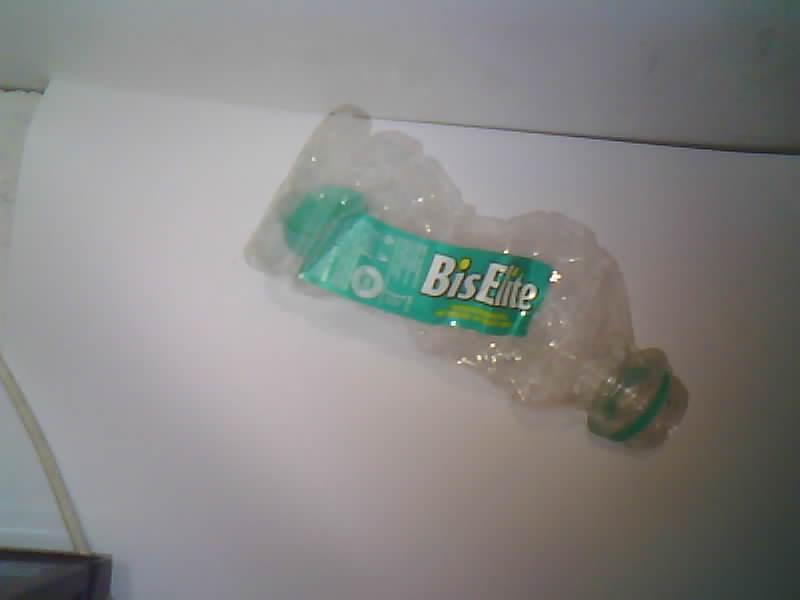non-biodegradable: (246, 109, 686, 449)
